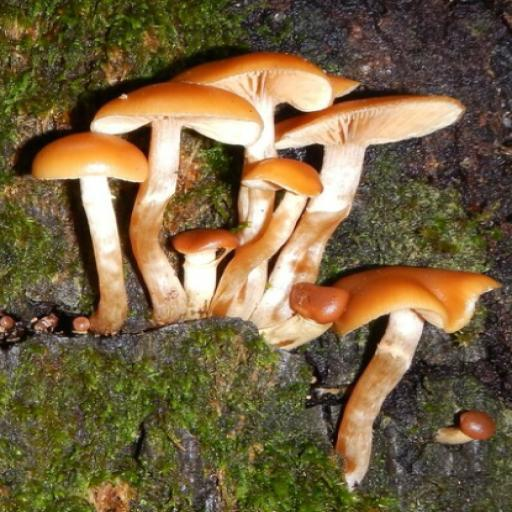mushroom: (27, 45, 467, 245), (292, 246, 496, 447)
